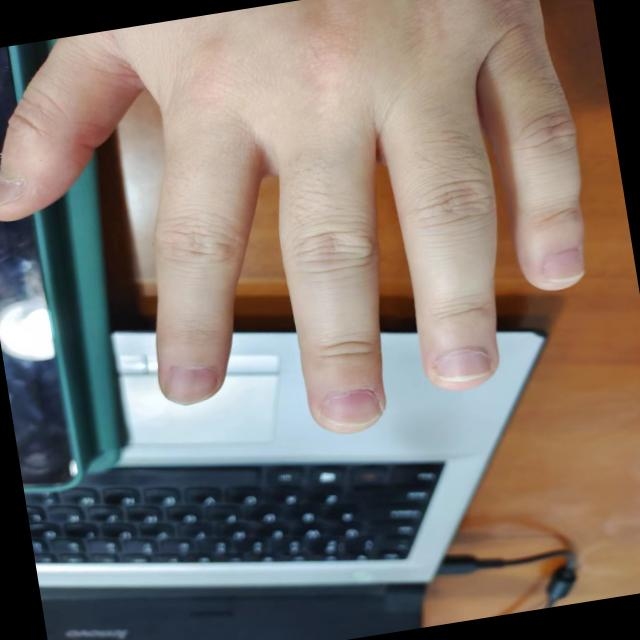Nail: (320, 388, 380, 425), (165, 365, 217, 404), (434, 351, 490, 380), (541, 251, 582, 282), (0, 178, 23, 203)
